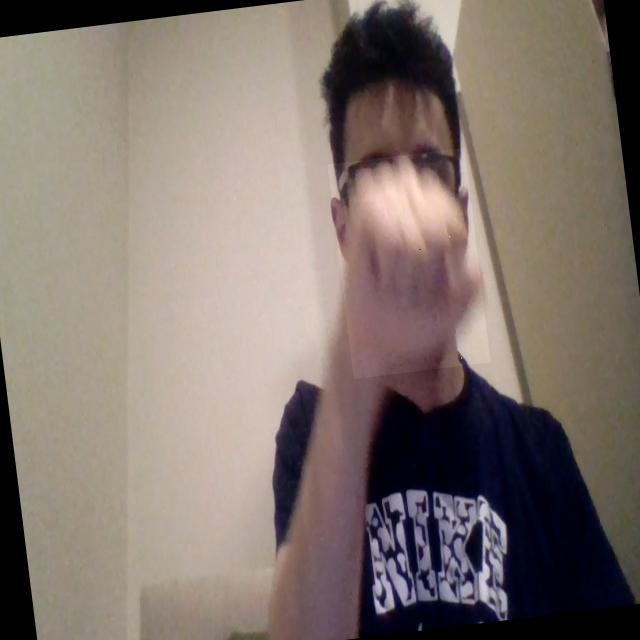yes: (327, 148, 490, 378)
